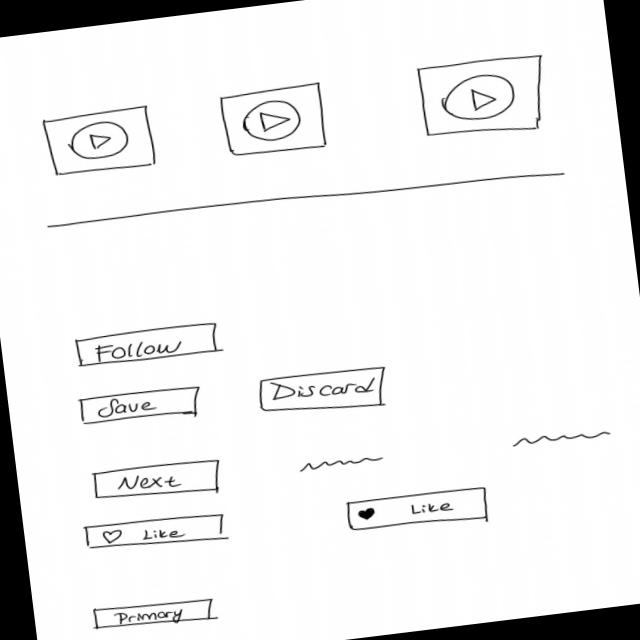button: (342, 482, 492, 538), (255, 362, 393, 421), (72, 320, 220, 370), (82, 507, 226, 557), (90, 455, 224, 505), (76, 382, 204, 429), (92, 592, 216, 634)
text: (508, 423, 616, 451), (297, 451, 386, 474)
